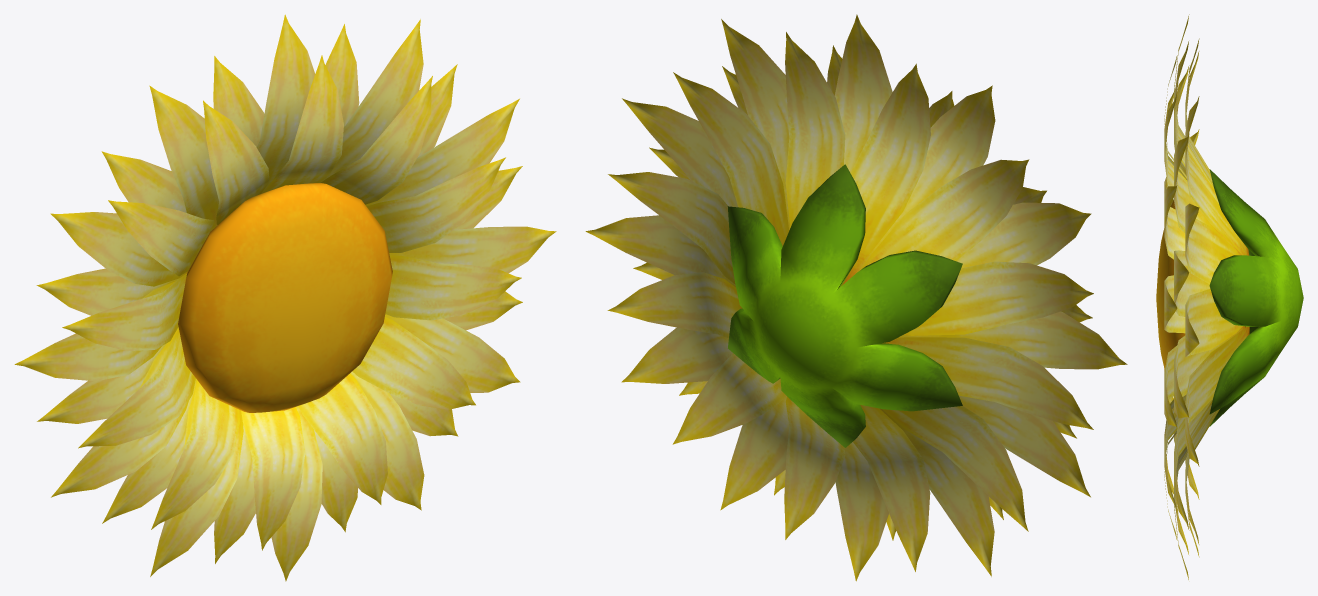
Rendered from sunflower.fbx.
3 renders of one model, left to right at view 1: azimuth 30°, elevation 25°; view 2: azimuth 150°, elevation 25°; view 3: azimuth 270°, elevation 25°, orthographic. The views are drawn at different scales.
Parts seen in each view (by area): view 1: sunflower.petal.002, sunflower.petal, sunflower.face, sunflower.petal.001; view 2: sunflower.petal.001, sunflower.petal, sunflower.head, sunflower.petal.002; view 3: sunflower.head, sunflower.petal.001, sunflower.petal, sunflower.petal.002, sunflower.face.
Boxes of the visible parts, box(x1,y1,x2,y2) form: sunflower.petal.002: box(62, 55, 521, 550); sunflower.petal: box(14, 14, 556, 581); sunflower.face: box(178, 183, 392, 412); sunflower.petal.001: box(36, 24, 522, 563); sunflower.petal.001: box(607, 32, 1093, 571); sunflower.petal: box(585, 14, 1127, 581); sunflower.head: box(727, 164, 962, 447); sunflower.petal.002: box(633, 45, 1092, 540); sunflower.head: box(1209, 169, 1303, 426); sunflower.petal.001: box(1185, 38, 1249, 557); sunflower.petal: box(1174, 14, 1245, 579); sunflower.petal.002: box(1164, 55, 1187, 540); sunflower.face: box(1156, 200, 1185, 369).
Size of the model in its own units: 461 by 461 by 119.
